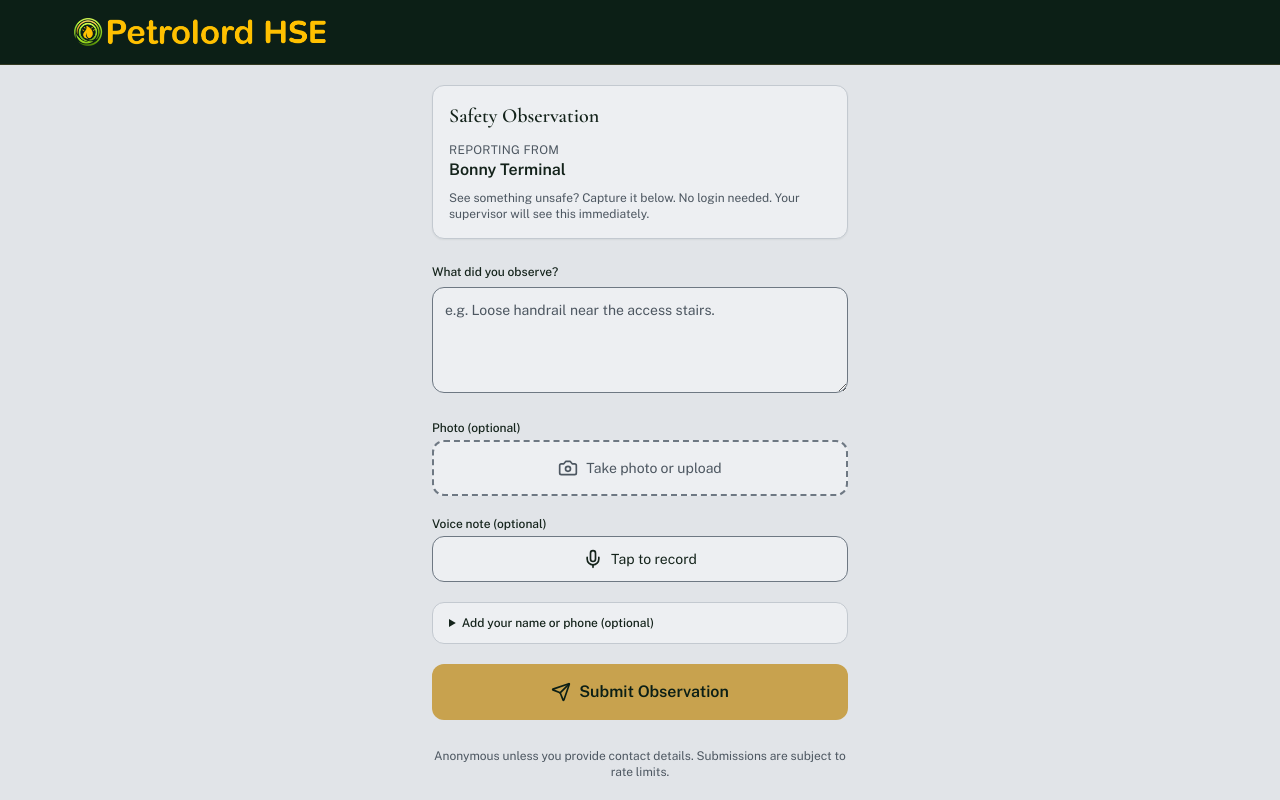
Test: QR observation: the flow is unchanged › an edge function error and a data.error are shown
The width and height of the screenshot is (1280, 800).
Expected: the text "Bonny Terminal" is shown, [449,160,566,179]
Type "Spill" into the text box labelled "What did you observe?" at (640, 340), box [432,287,848,393]
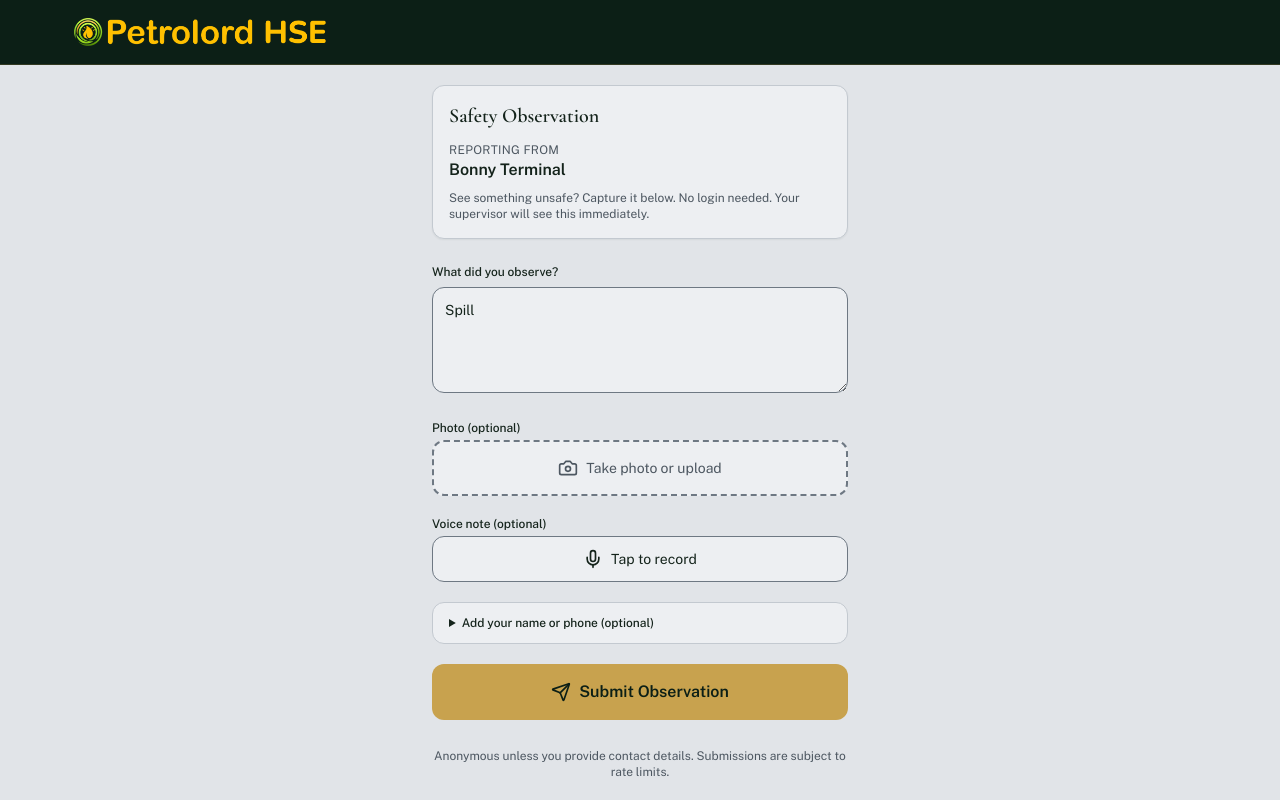
Click the button "Submit Observation" at (640, 692), box [432,664,848,720]
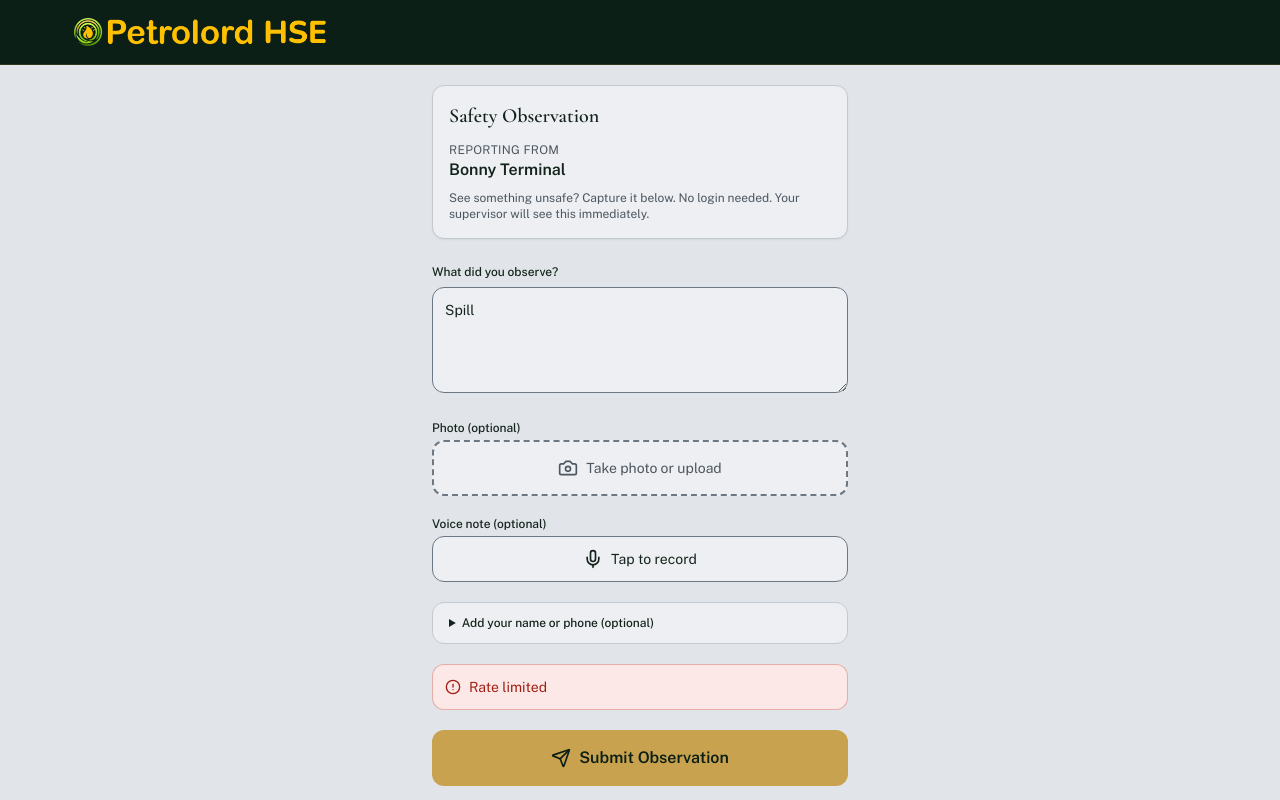
Expected: the text "Rate limited" is shown, [469,677,547,697]
Click the button "Submit Observation" at (640, 758), box [432,730,848,786]
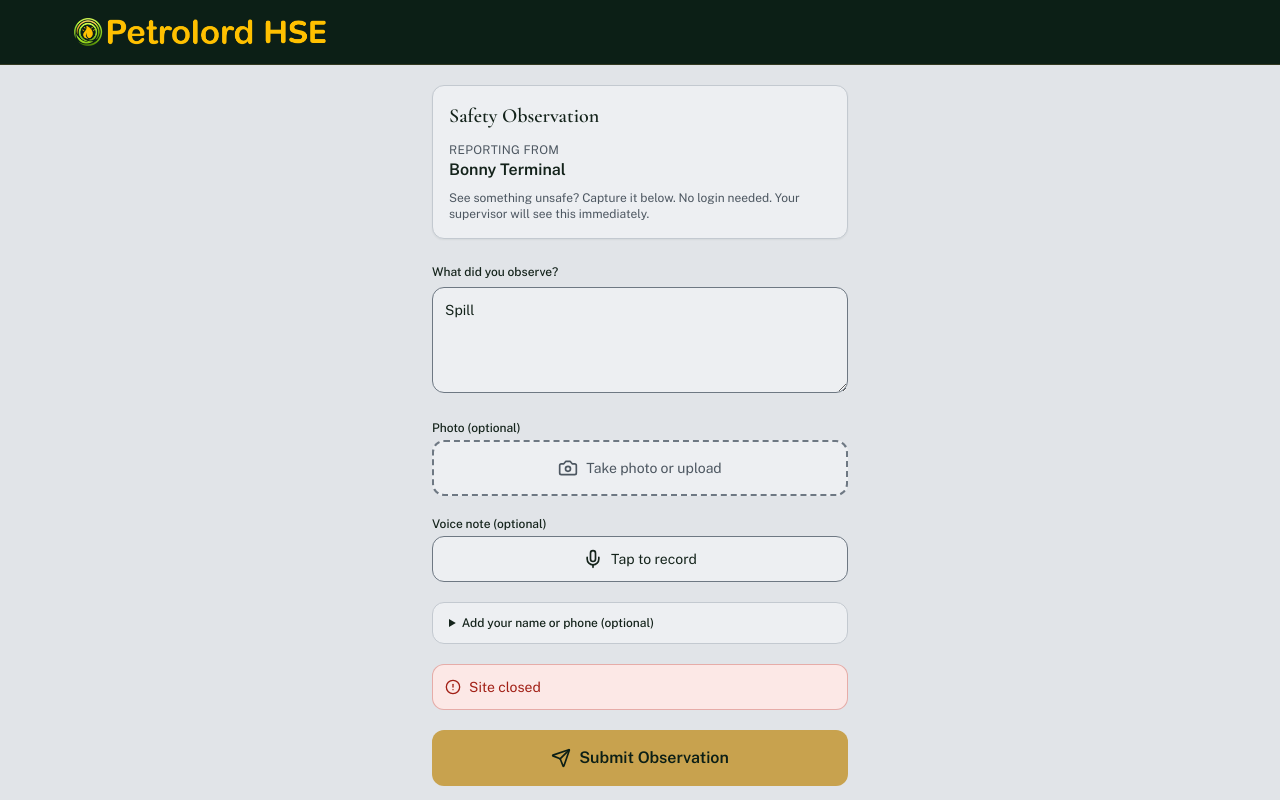
Expected: the text "Site closed" is shown, [469,677,541,697]
